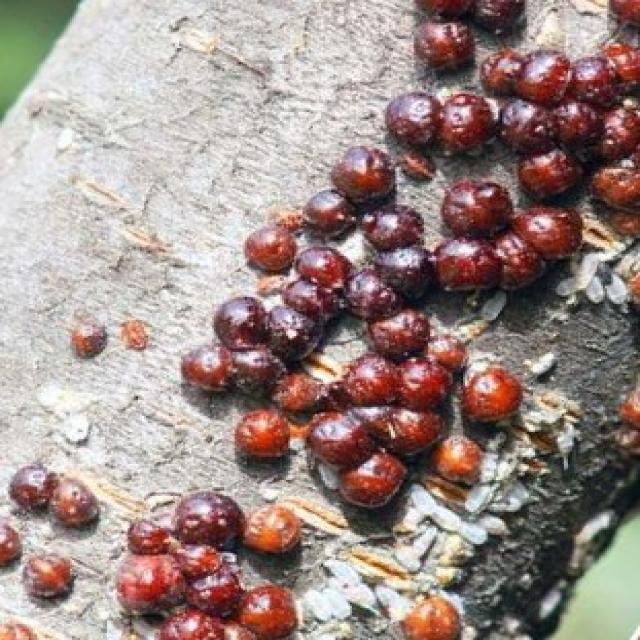BlackScale: (181, 0, 638, 512), (119, 491, 302, 638), (2, 460, 97, 638), (399, 596, 462, 638), (72, 326, 101, 358)
